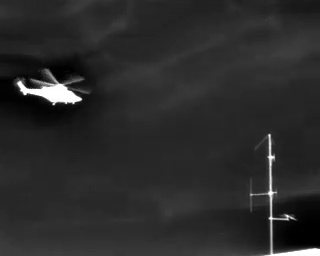HELICOPTER: (15, 64, 93, 114)
